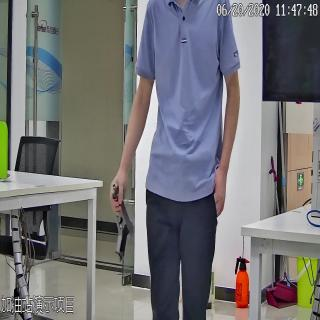gun: (110, 180, 134, 262)
